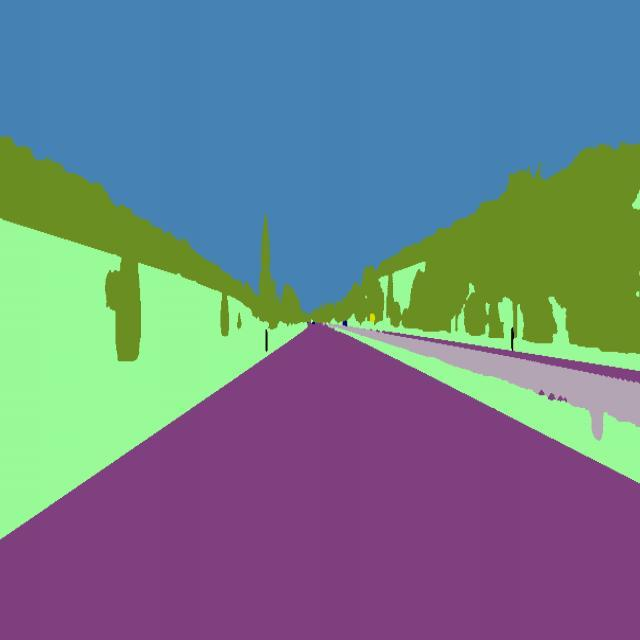safe: (342, 318, 351, 330)
